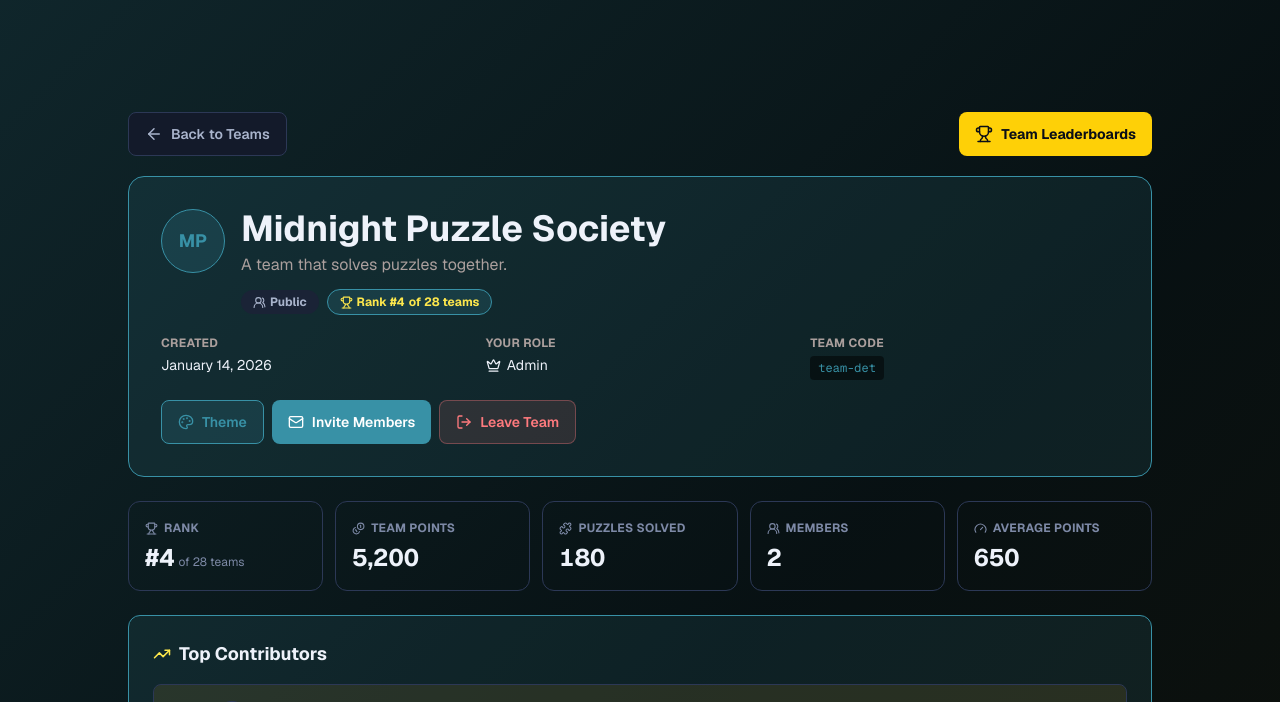
Team Detail page — action deck and theme picker (Pass 16B.1) › 76. failed theme selection preserves exact failure modal copy (server error)
Click the button "Theme": (212,422) [161,400,264,444]
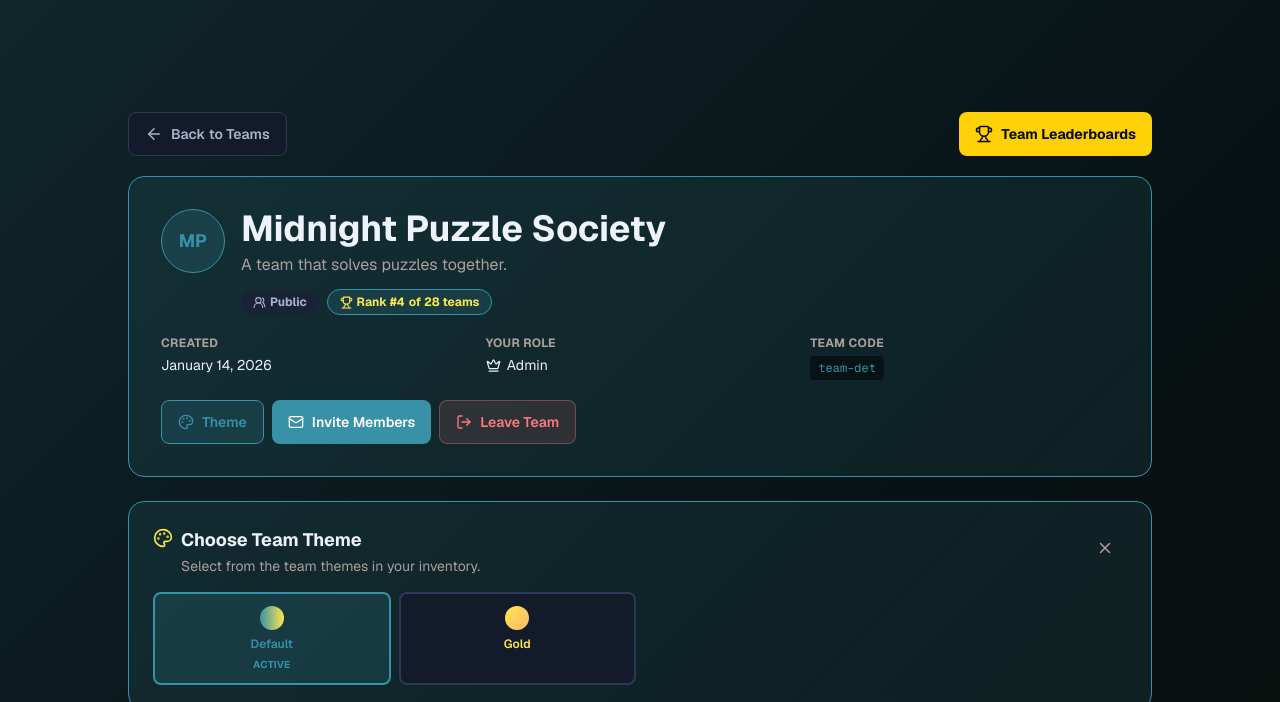
Click the button with test id "team-theme-option-gold": (517,638) [398,592,636,685]
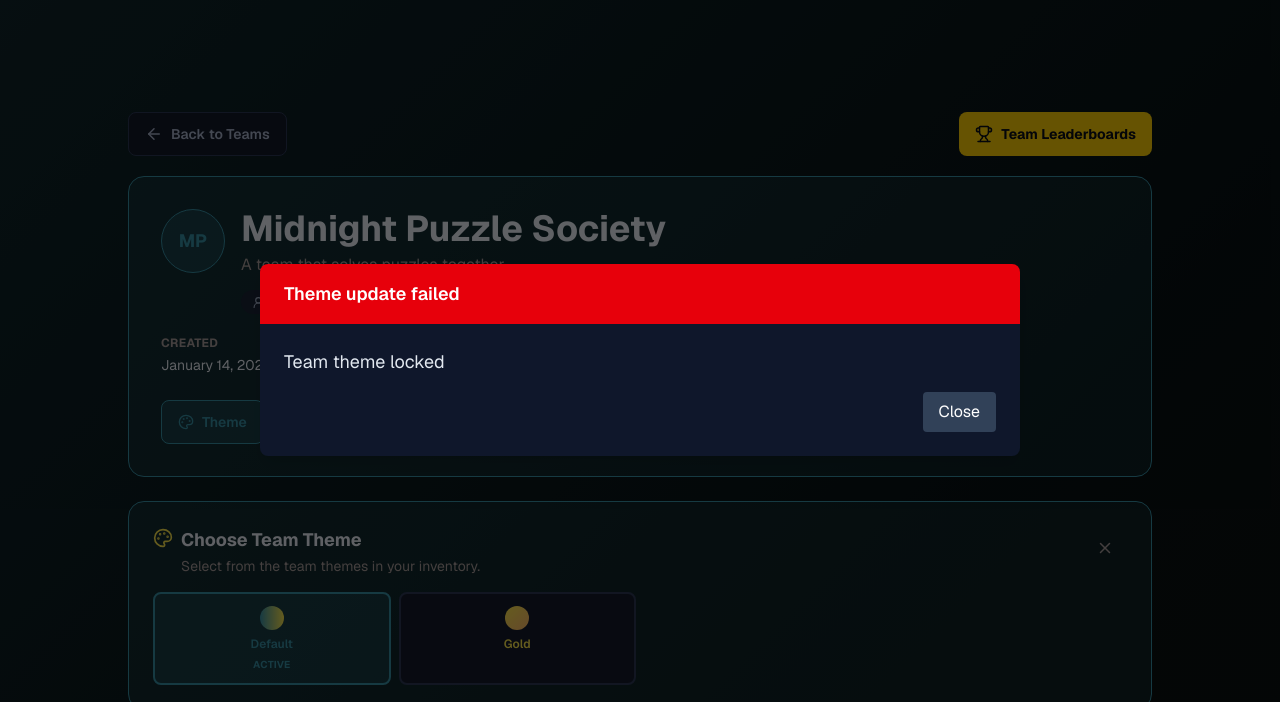
Check: the heading "Theme update failed" is shown, box [284,282,460,305]
Check: the text "Team theme locked" is shown, box [284,350,445,373]
